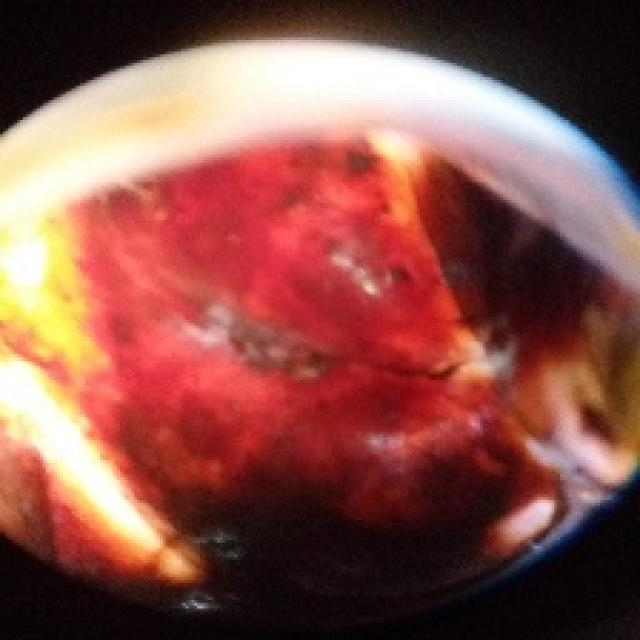type-3: (0, 49, 597, 597)
